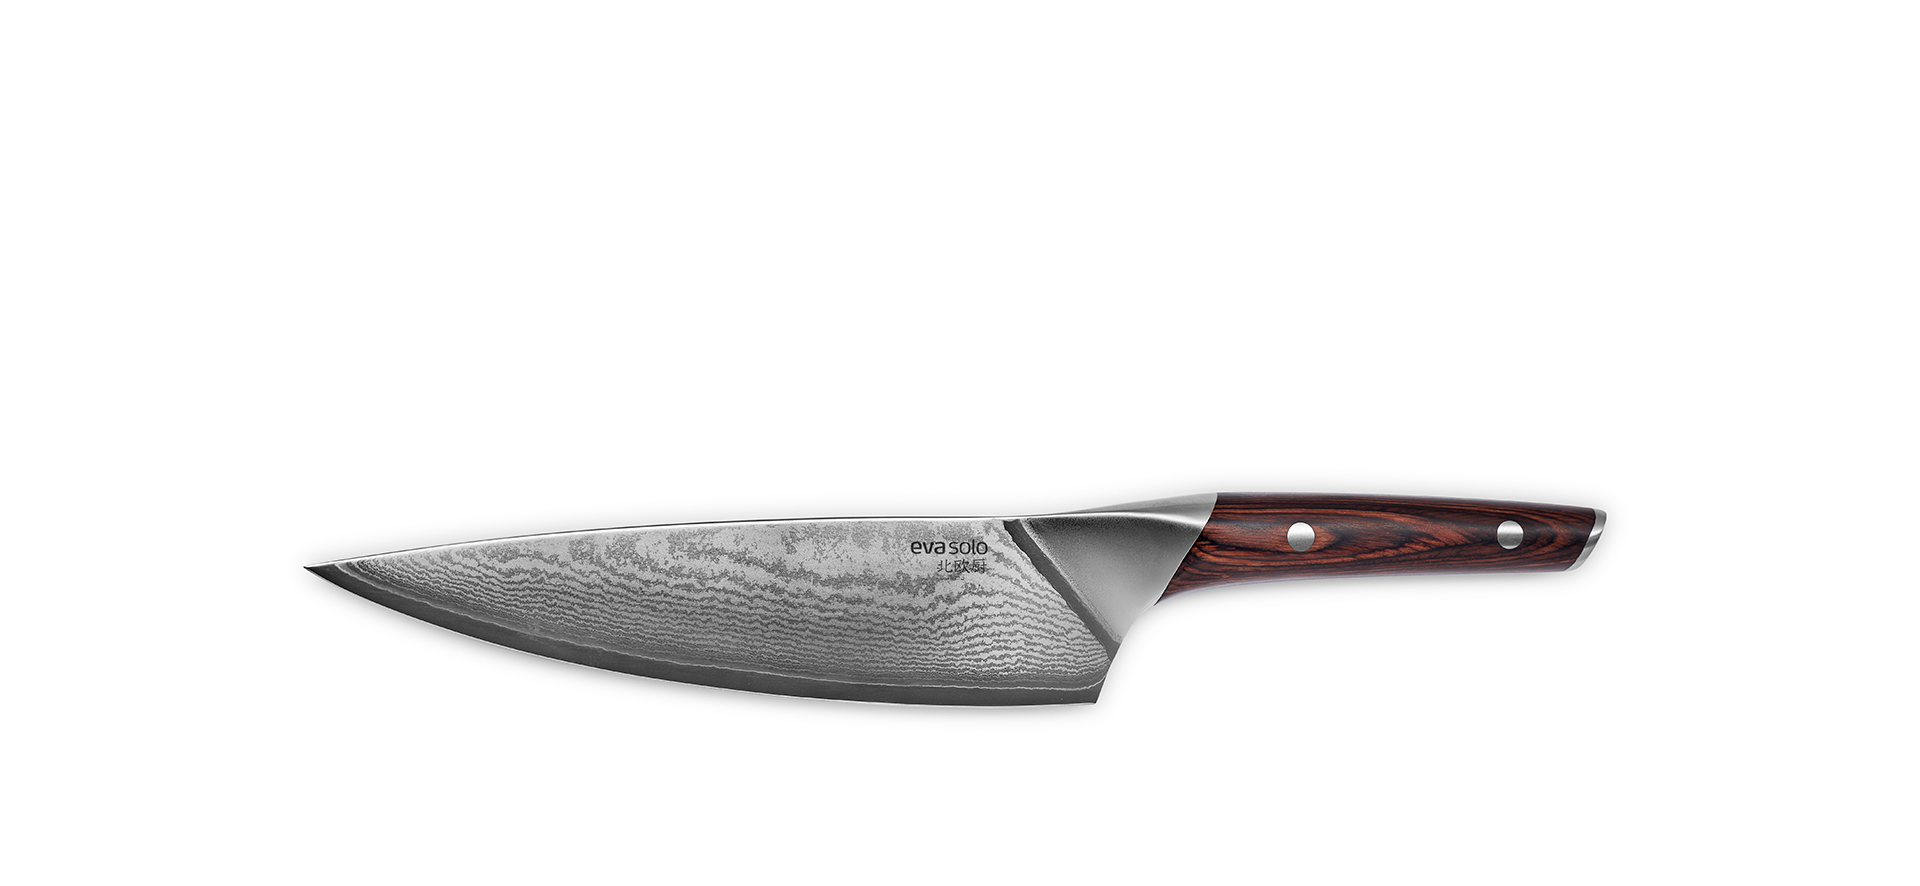knife: (302, 492, 1602, 710)
